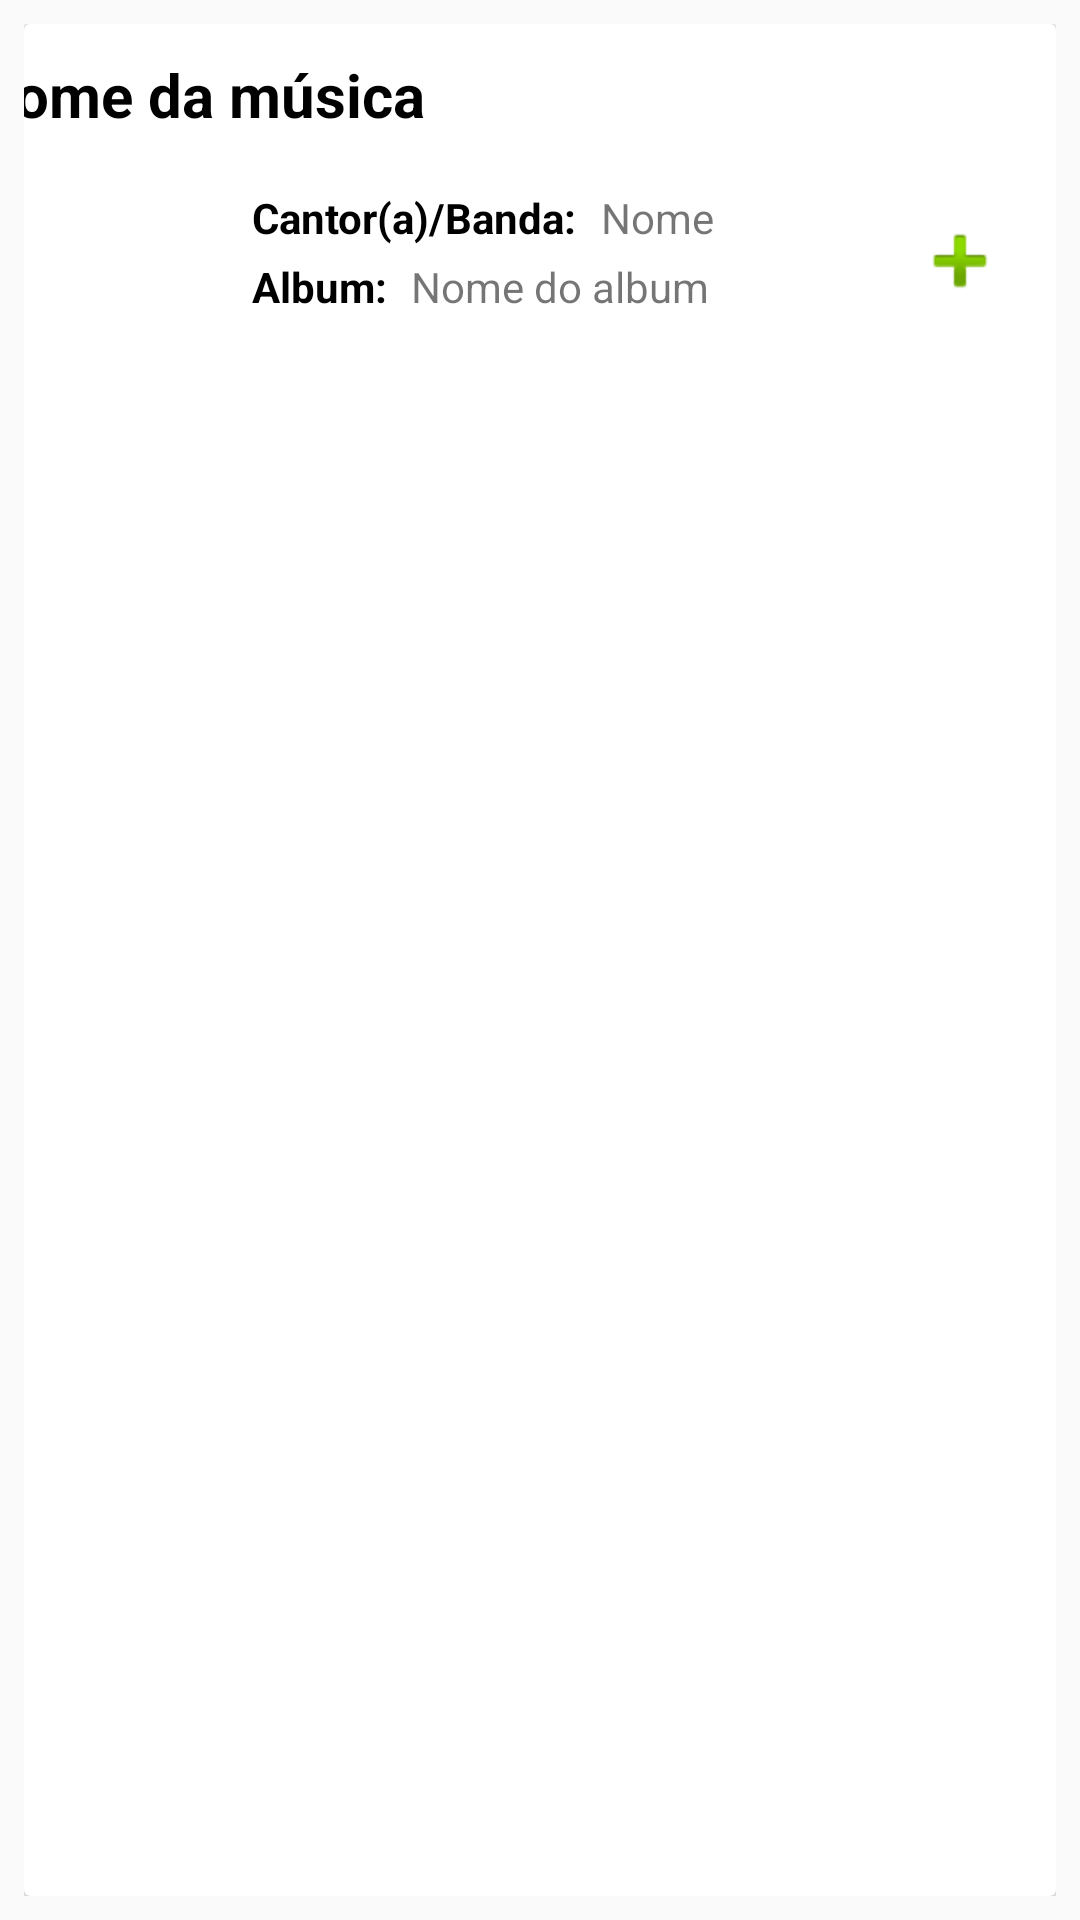

Where to tap for icons on this 1080px×1920px app screen, as [x,y]:
add: [960,261]
